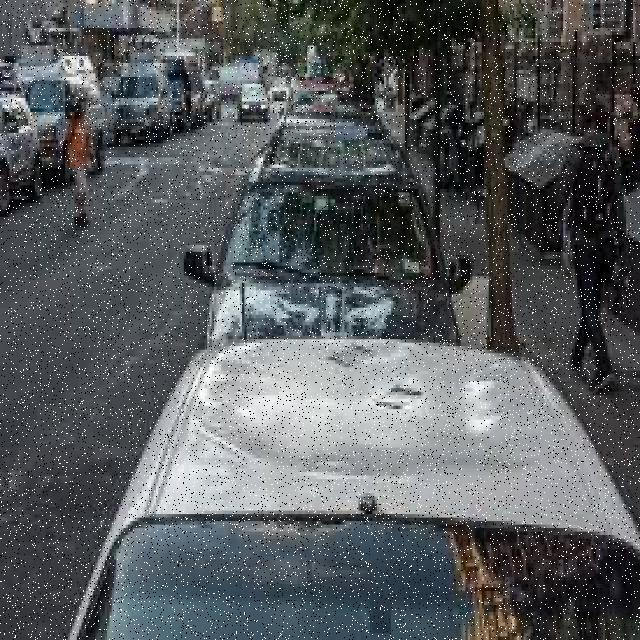roof-dent: (144, 339, 582, 518)
